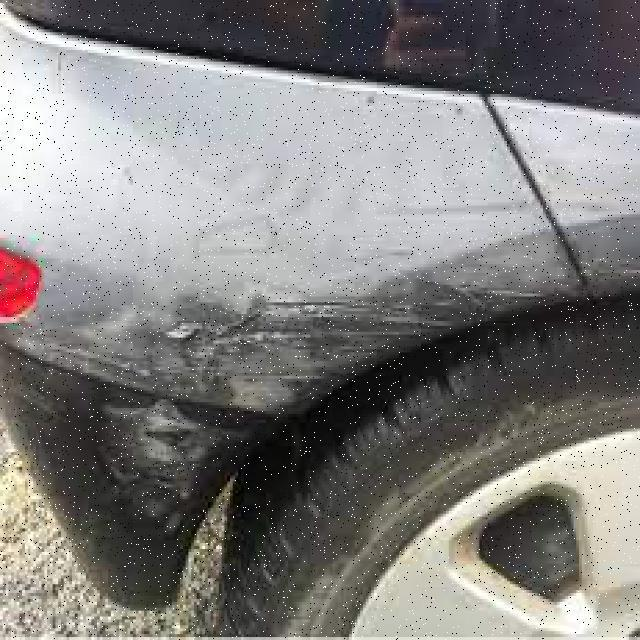car damage: (0, 35, 582, 608)
